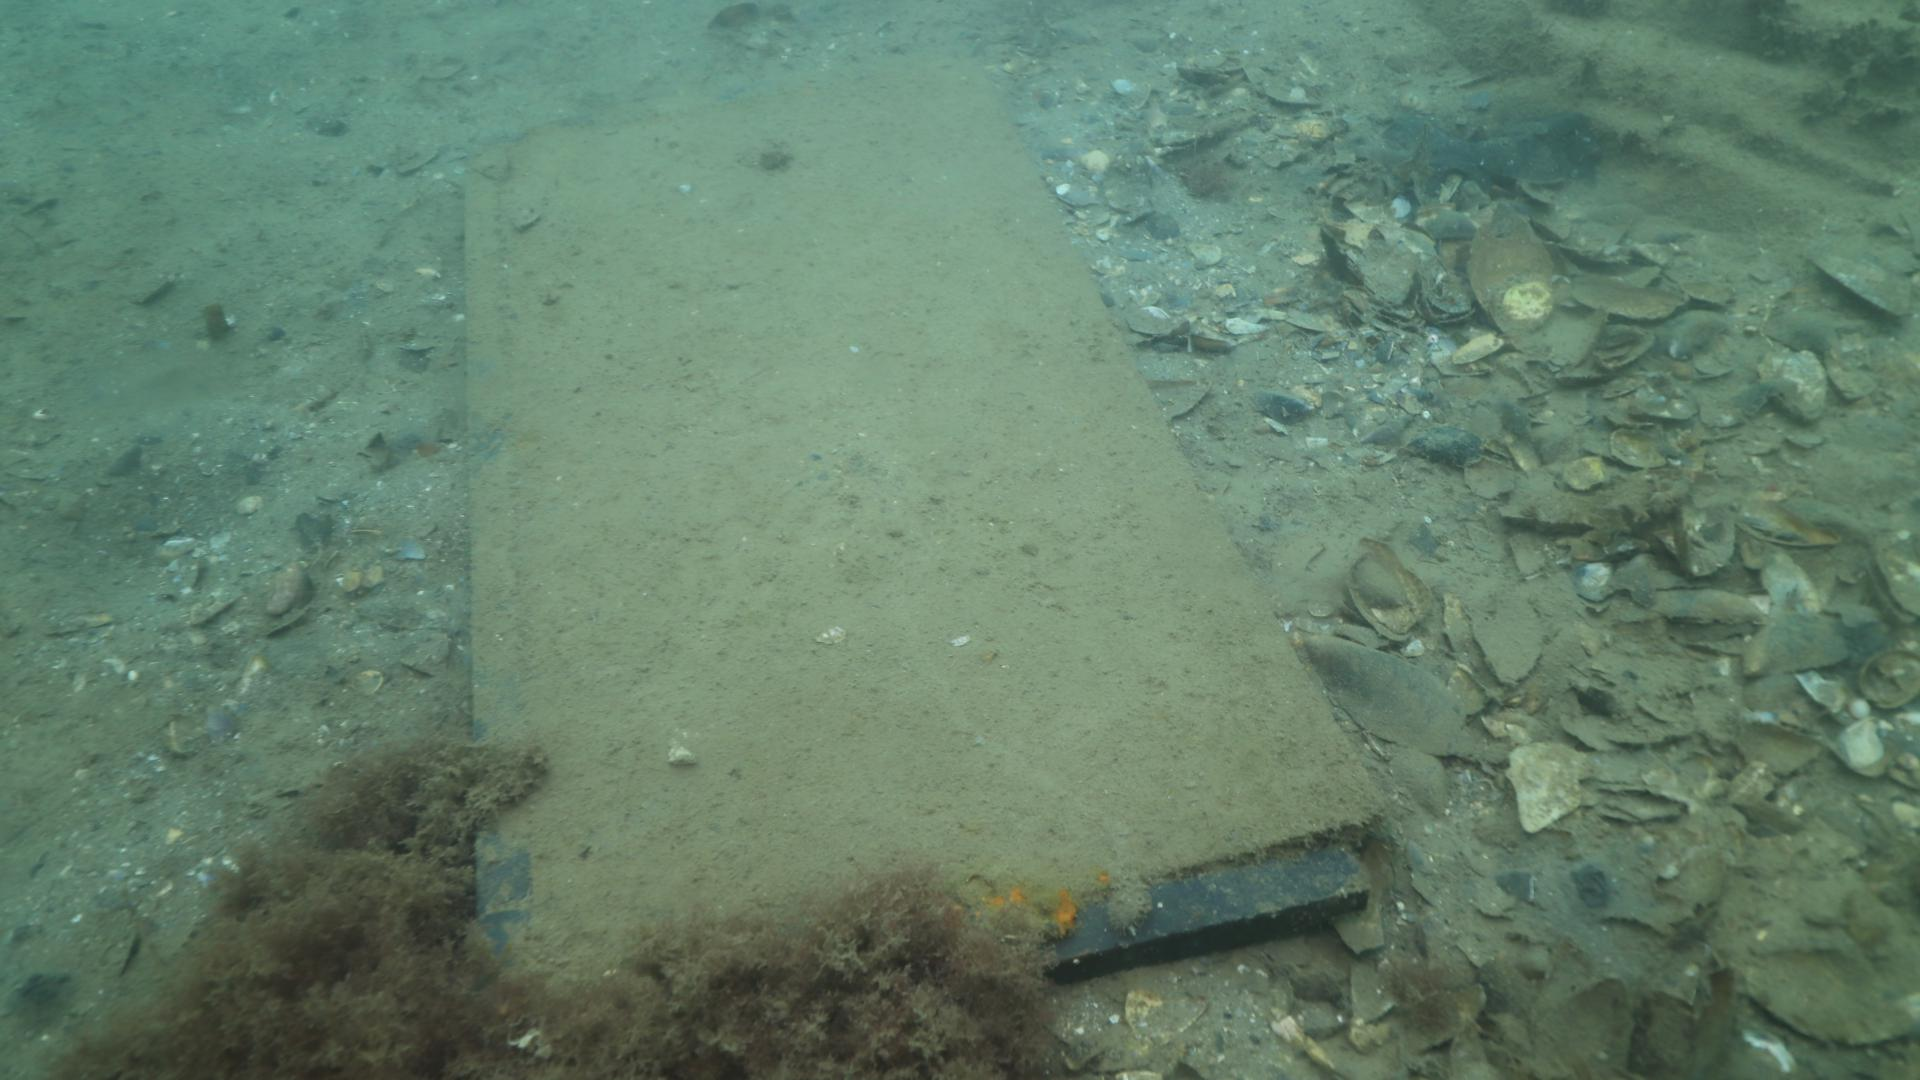wood: (459, 59, 1391, 1001)
